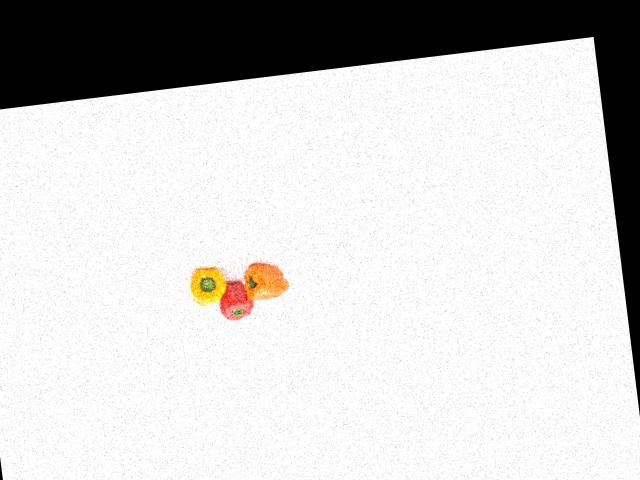bell_pepper: (185, 264, 233, 309)
